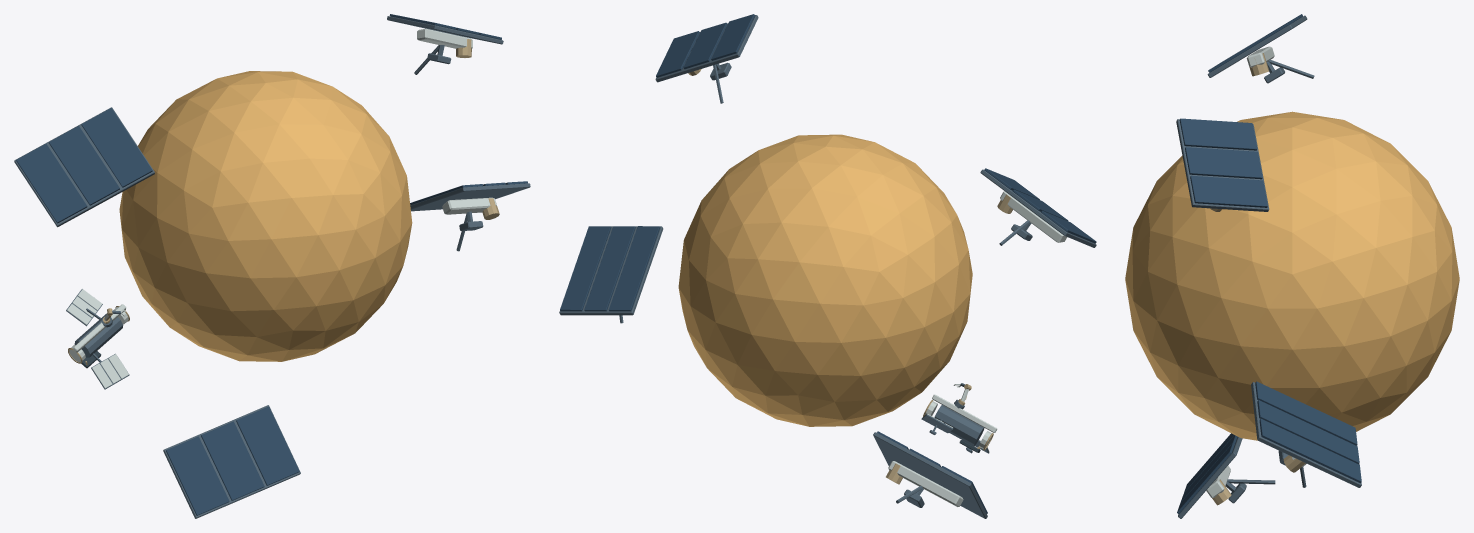
The model's file is solar.glb.
3 renders of one model, left to right at view 1: azimuth 30°, elevation 25°; view 2: azimuth 150°, elevation 25°; view 3: azimuth 270°, elevation 25°, orthographic. The views are drawn at different scales.
Parts seen in each view (by area): view 1: S9_solar • modeled surfaces; view 2: S9_solar • modeled surfaces; view 3: S9_solar • modeled surfaces.
Part boxes in pixels (bbox=[...]): S9_solar • modeled surfaces: bbox=[14, 14, 530, 518]; S9_solar • modeled surfaces: bbox=[559, 14, 1096, 518]; S9_solar • modeled surfaces: bbox=[1125, 14, 1459, 518].
Bounding box in the file's own units: 1.87 × 1.59 × 0.96.
